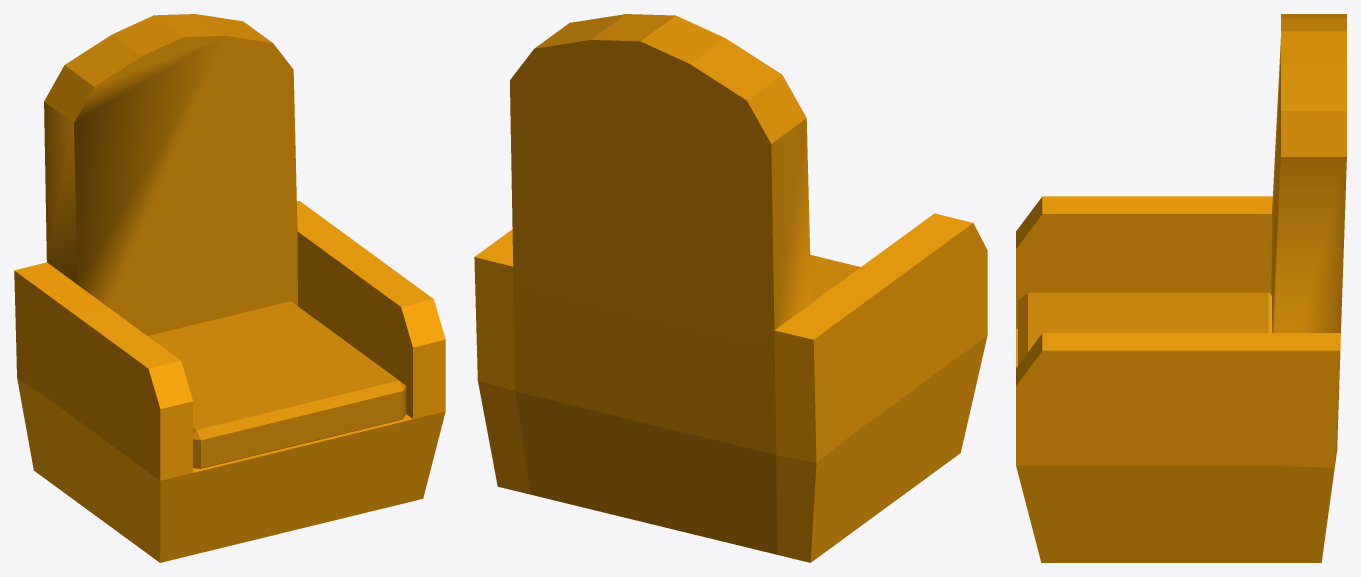
The model's file is armwtf.fbx.
3 renders of one model, left to right at view 1: azimuth 30°, elevation 25°; view 2: azimuth 150°, elevation 25°; view 3: azimuth 270°, elevation 25°, orthographic. The views are drawn at different scales.
Visible parts, largest first — view 1: Armchair.002, Armchair, Armchair.003; view 2: Armchair.002, Armchair, Armchair.003; view 3: Armchair, Armchair.002.
Part boxes in pixels (left/top/right/bottom): Armchair.002: left=44, top=14, right=406, bottom=467; Armchair: left=14, top=201, right=445, bottom=562; Armchair.003: left=44, top=102, right=77, bottom=284; Armchair.002: left=510, top=14, right=860, bottom=554; Armchair: left=474, top=213, right=987, bottom=562; Armchair.003: left=771, top=118, right=811, bottom=329; Armchair: left=1016, top=196, right=1340, bottom=562; Armchair.002: left=1018, top=14, right=1346, bottom=365.
Size of the model in its own units: 98.74 by 137 by 89.38.
